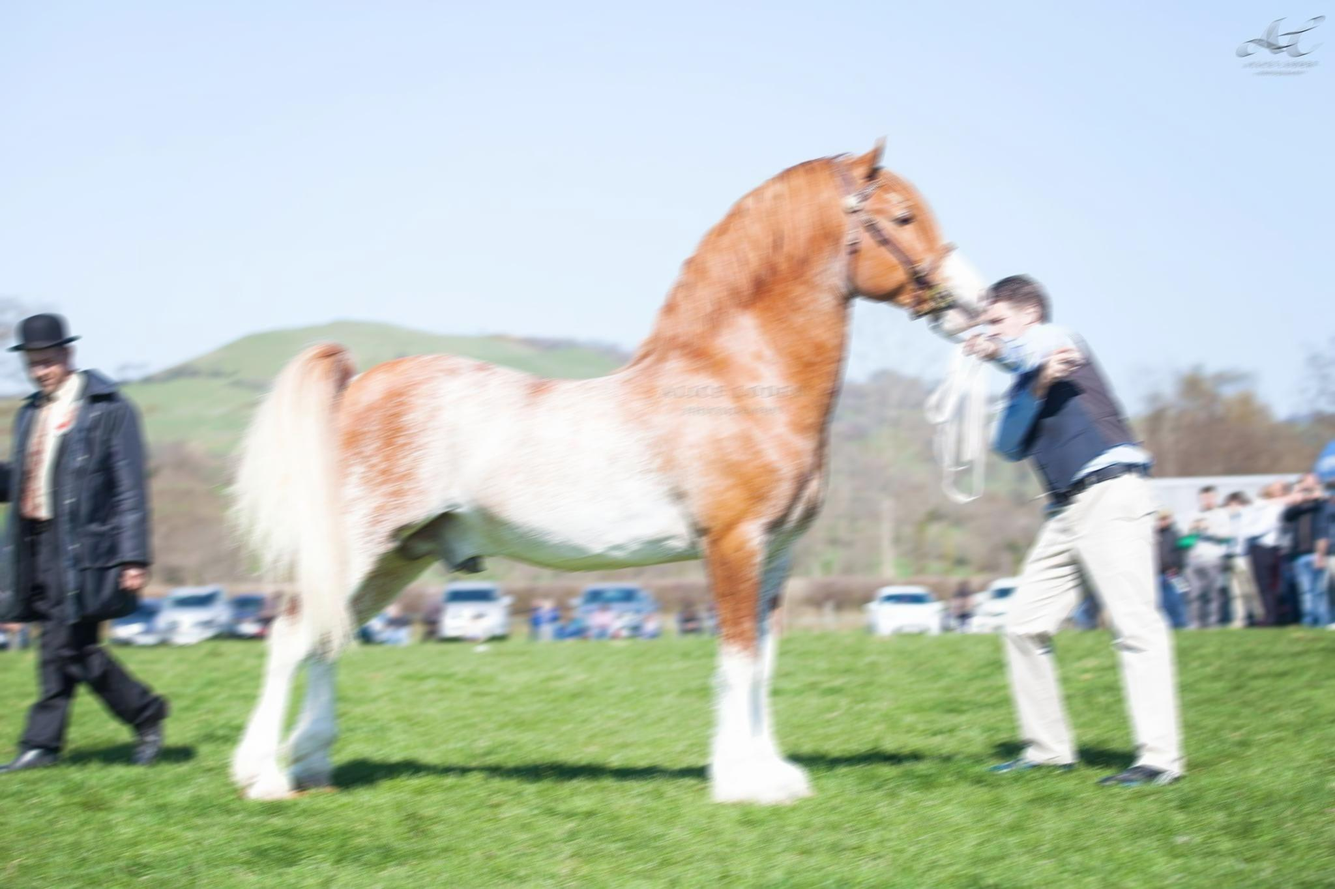horse: (218, 134, 993, 807)
